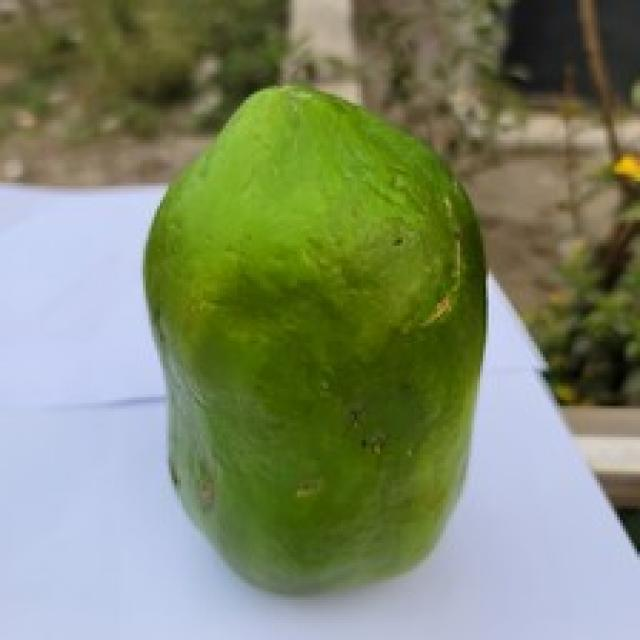Pepaya unrippen: (137, 81, 521, 601)
